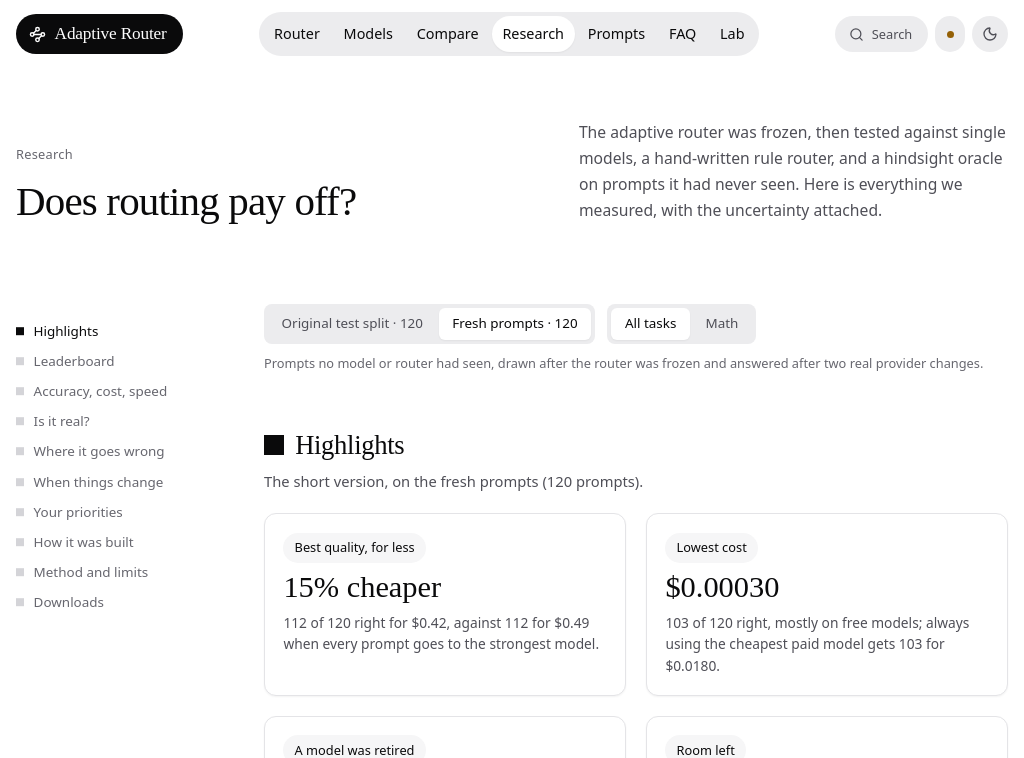
Test: offers only the task filters an evaluation has prompts for
Click the button "Math" at (722, 324), box x1=692 y1=308 x2=752 y2=340
(page scrolled)
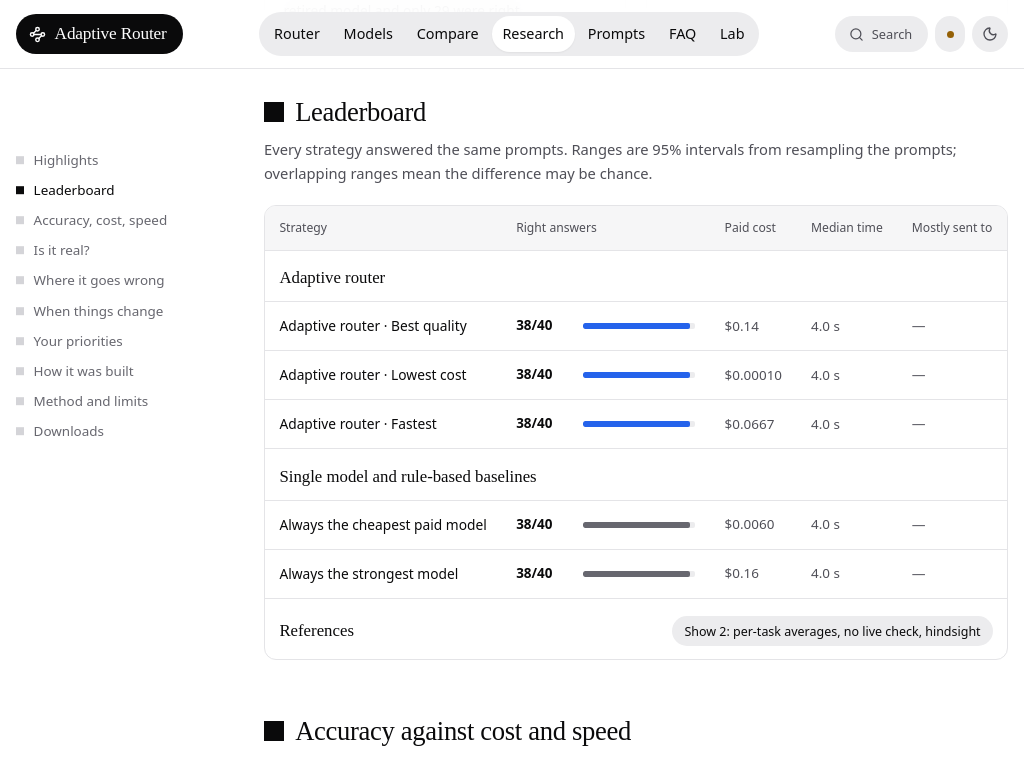
Expected: the table named "Leaderboard · Math" is shown, x1=265 y1=206 x2=1007 y2=659
